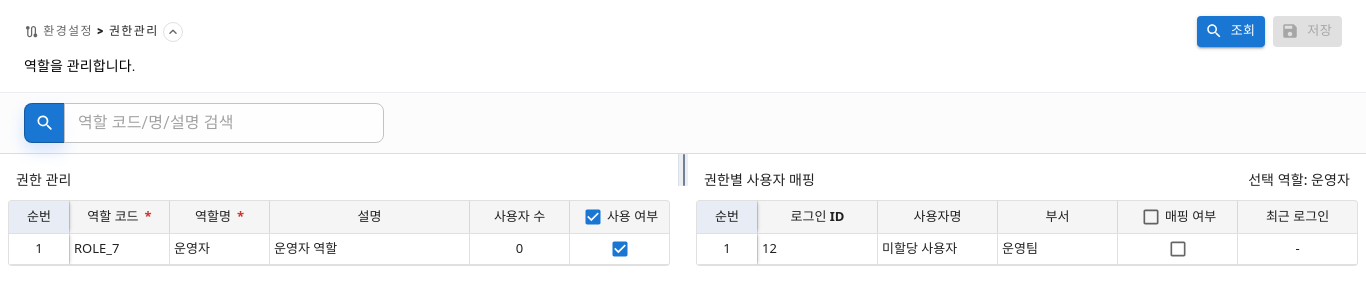
Test: RoleManagementPage notifications › keeps a user mapping toggle local and enables the header save action
Click the checkbox named "매핑 여부 12". click: (1178, 249)
box: [1168,239,1188,259]
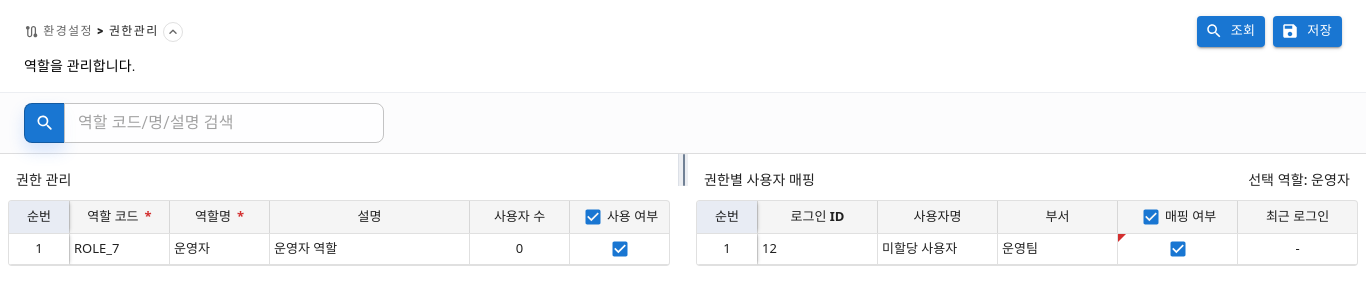
Result: the button "저장" is enabled at [1273,16,1342,47]
